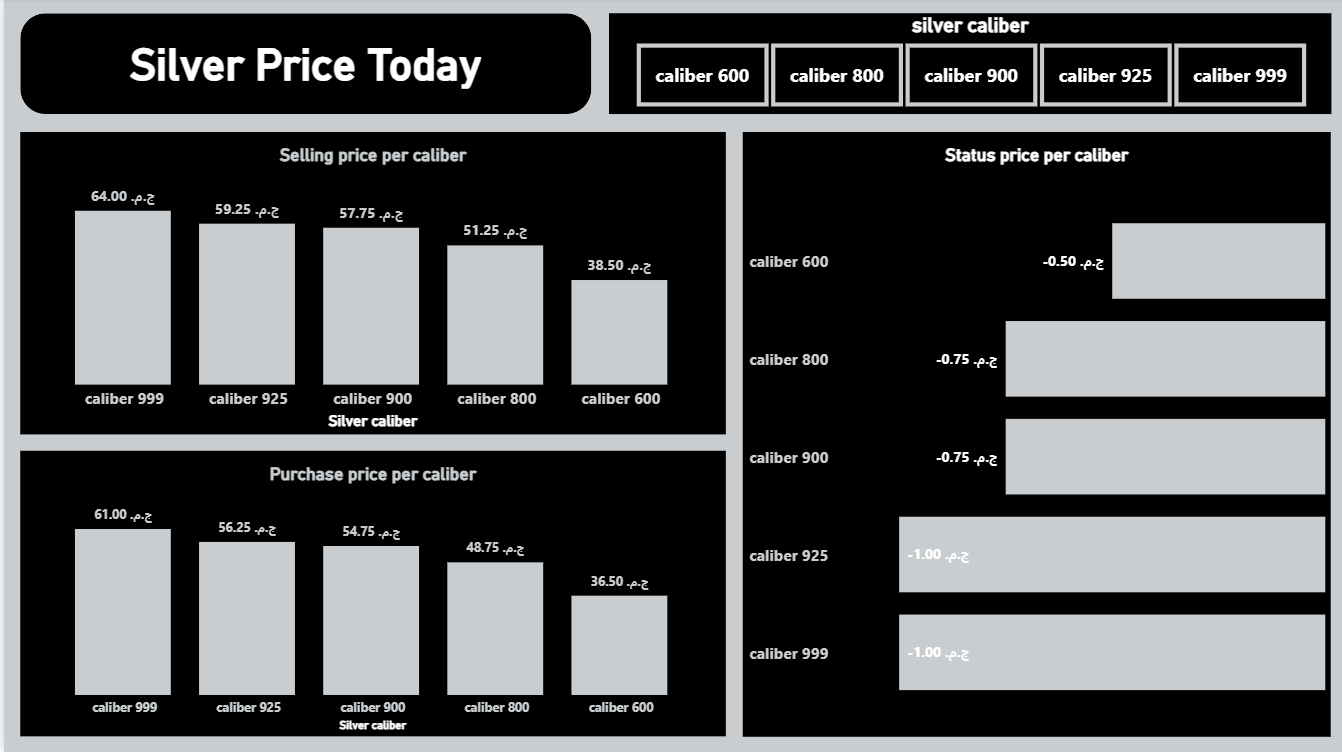

Layout of this report page (visuals, bound fields, positions):
{"tool":"powerbi","page":{"name":"اسعار الفضة","canvas":[1280,720],"ordinal":1},"visuals":[{"type":"shape","box":[16,16,544,96],"z":0},{"type":"clusteredColumnChart","title":"Selling price per caliber","fields":{"Category":["فضة.caliber"],"Y":["Sum(فضة.سعر البيع)"]},"box":[16,128,672,288],"z":1000},{"type":"clusteredColumnChart","title":"Purchase price per caliber","fields":{"Category":["فضة.caliber"],"Y":["Sum(فضة.سعر الشراء)"]},"box":[16,432,672,272],"z":2000},{"type":"slicer","title":"silver caliber","fields":{"Values":["ذهب.caliber"]},"box":[576,16,688,96],"z":3000},{"type":"barChart","title":"Status price per caliber","fields":{"Category":["فضة.caliber"],"Y":["Sum(فضة.السعر)"]},"box":[704,128,544,576],"z":4000}]}

Visuals, with their boxes in screenshot pixels (x1, y1, x2, y2), scaled from the page's 1280x720 canvas onto the 1342x752 screenshot:
shape: 17:17:587:117
"Selling price per caliber" clusteredColumnChart: 17:134:721:434
"Purchase price per caliber" clusteredColumnChart: 17:451:721:735
"silver caliber" slicer: 604:17:1325:117
"Status price per caliber" barChart: 738:134:1308:735
